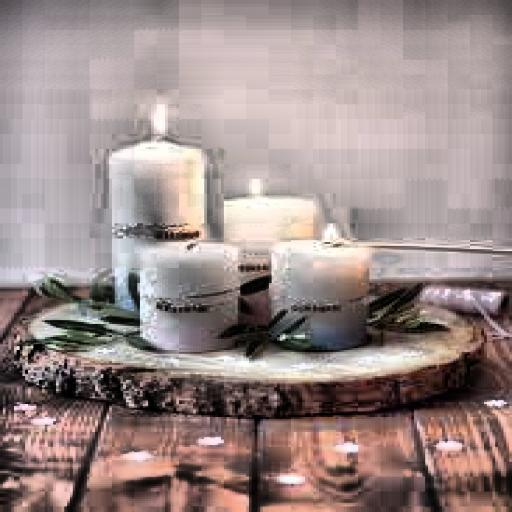fire: (143, 98, 168, 140), (311, 218, 344, 244), (240, 175, 266, 199)
